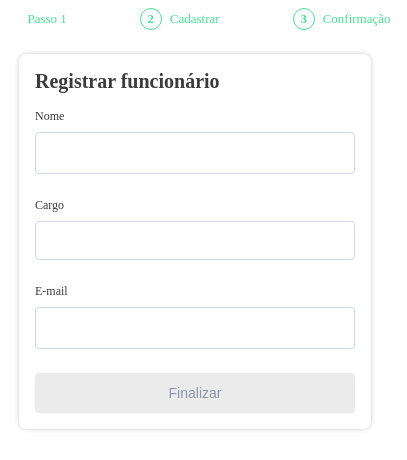
should fill fileds
expect the button "Finalizar" is disabled: met, box left=35, top=373, right=355, bottom=413
Type "Rogério" into the field labelled "Nome" at (195, 153), box left=35, top=132, right=355, bottom=174
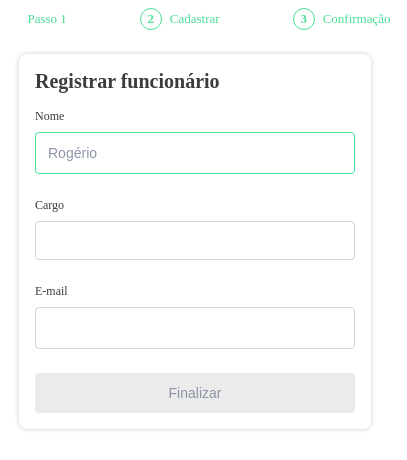
Click the button with test id "select" at (195, 240), box left=35, top=221, right=355, bottom=260
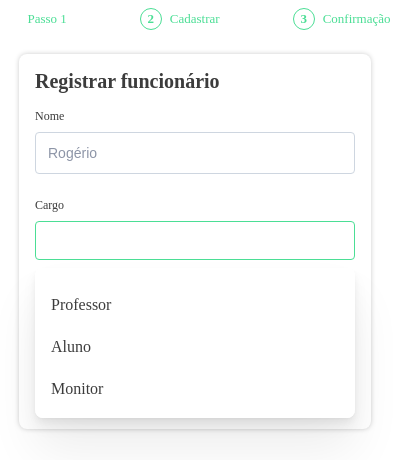
Click the option "Aluno" at (71, 346), box left=51, top=338, right=91, bottom=355
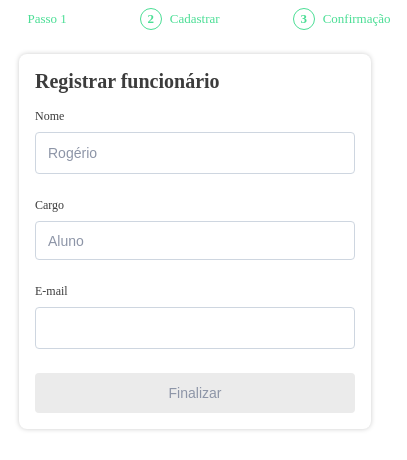
Type "rogerio@puc.com" into the field labelled "E-mail" at (195, 328), box left=35, top=307, right=355, bottom=349
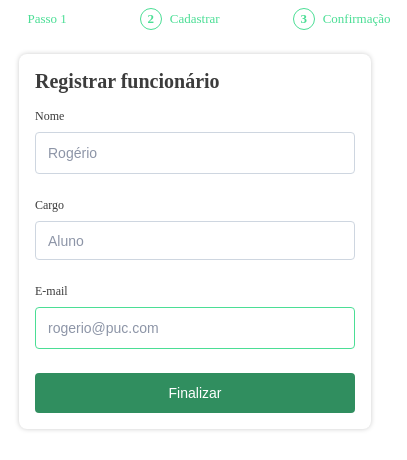
expect the button "Finalizar" is enabled: met
Click the button "Finalizar" at (195, 393), box left=35, top=373, right=355, bottom=413
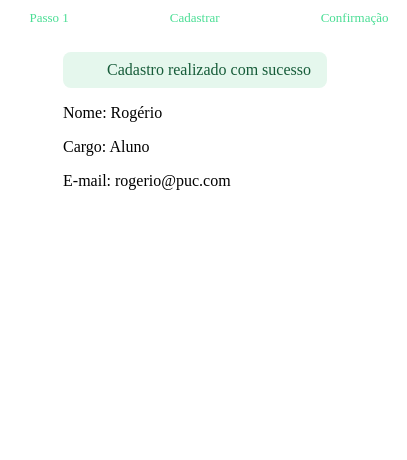
expect the text "Cadastro realizado com sucesso" is shown: met, box left=107, top=61, right=311, bottom=79
